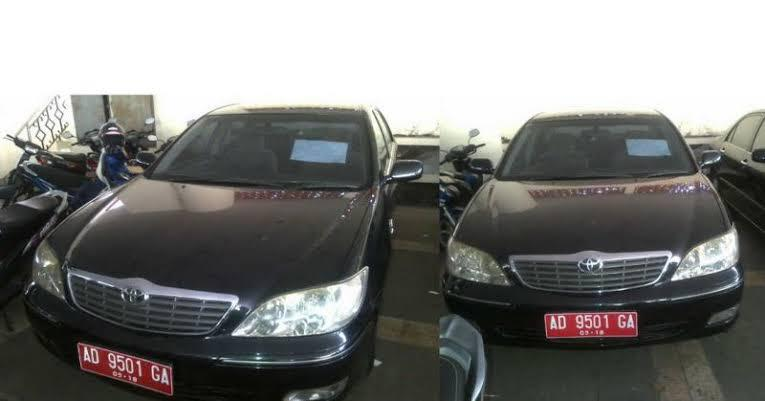plate: (78, 339, 175, 397), (542, 310, 640, 338)
